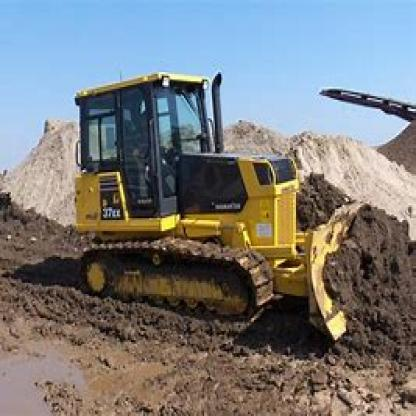bull_dozer/loader/grader: (53, 63, 408, 368)
